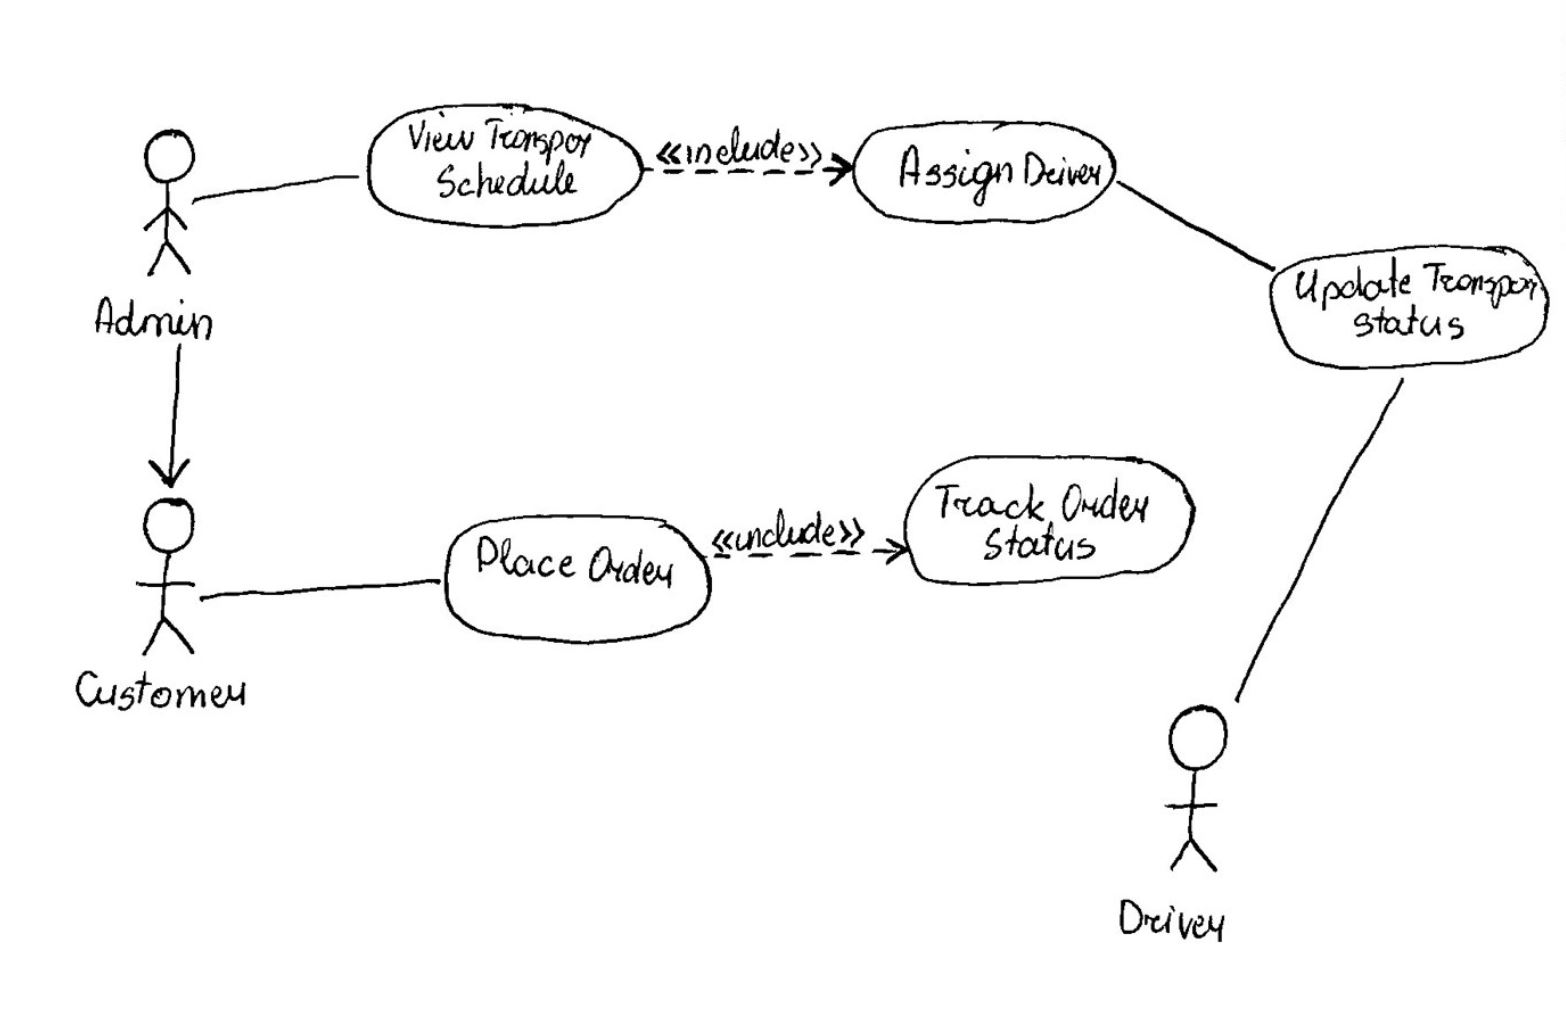actor: (1159, 701, 1227, 879), (131, 496, 203, 663), (132, 122, 197, 285)
association: (1236, 377, 1406, 703), (1117, 177, 1275, 272), (193, 570, 441, 618), (711, 526, 902, 577), (641, 147, 853, 191), (189, 167, 360, 211), (146, 345, 196, 492)
text: (935, 478, 1167, 564), (1293, 262, 1536, 342), (404, 116, 598, 202), (887, 139, 1101, 204), (473, 532, 681, 597), (68, 663, 260, 714), (1111, 885, 1235, 949), (91, 289, 221, 343), (711, 511, 865, 552), (653, 132, 820, 170)
use_case: (902, 453, 1194, 588), (441, 512, 717, 649), (1268, 244, 1552, 372), (364, 102, 644, 230), (851, 120, 1119, 227)
